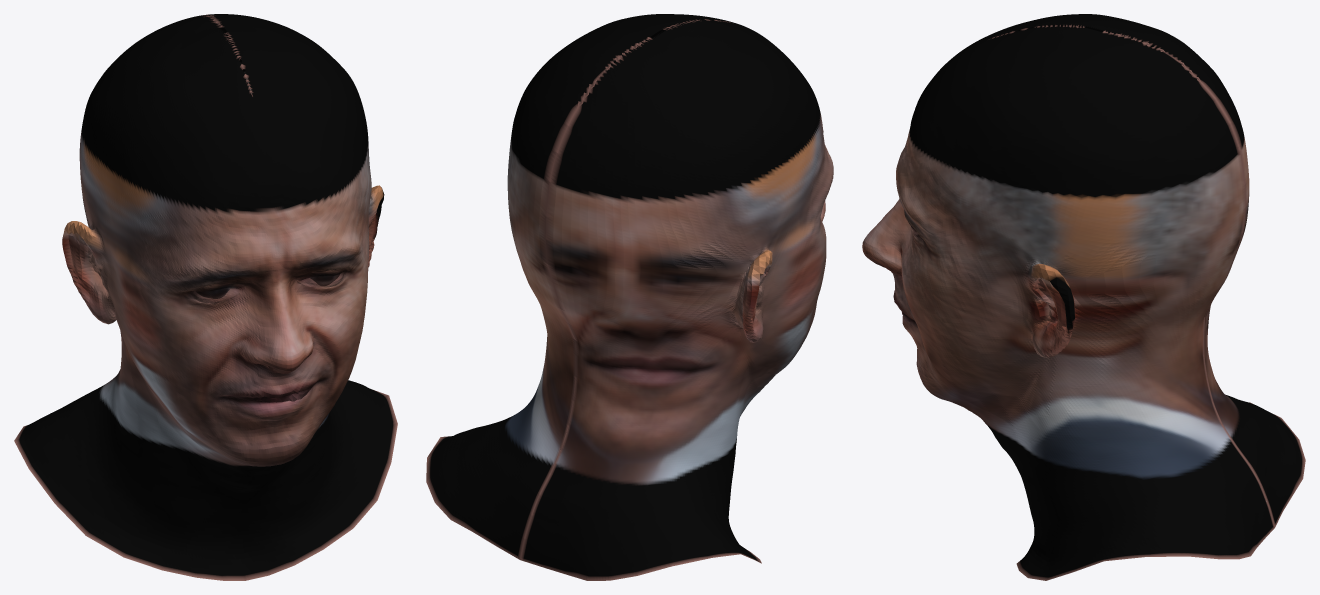
Rendered from mesh_coarse_detail.obj.
3 renders of one model, left to right at view 1: azimuth 30°, elevation 25°; view 2: azimuth 150°, elevation 25°; view 3: azimuth 270°, elevation 25°, orthographic.
Size of the model in its own units: 0.2156 by 0.3286 by 0.249.
